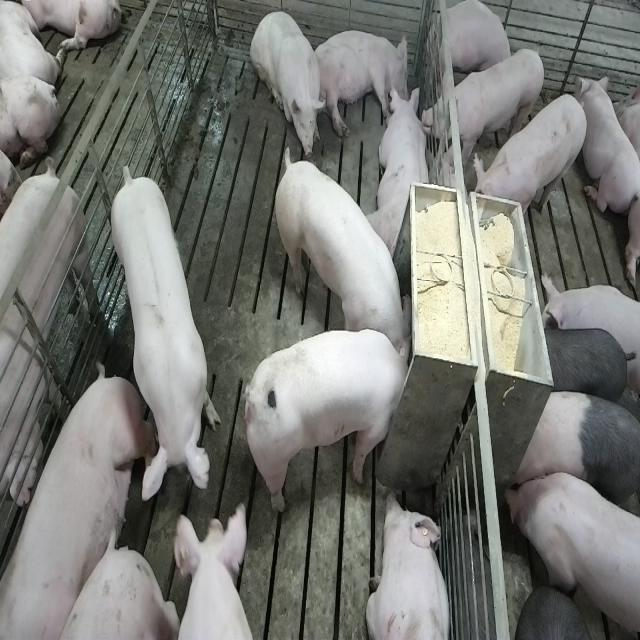Feeding: (248, 327, 420, 518), (272, 143, 410, 356)
Lateral_lying: (0, 366, 144, 640), (310, 29, 410, 139)
Sitting: (250, 7, 324, 159)
Standing: (108, 165, 222, 510), (0, 166, 99, 518), (504, 464, 638, 640), (511, 387, 638, 523), (473, 92, 589, 229), (422, 45, 545, 162), (172, 502, 266, 638), (530, 324, 635, 412)
Sternal_lying: (365, 490, 453, 640), (371, 85, 434, 262), (579, 72, 638, 221), (434, 2, 514, 86)
